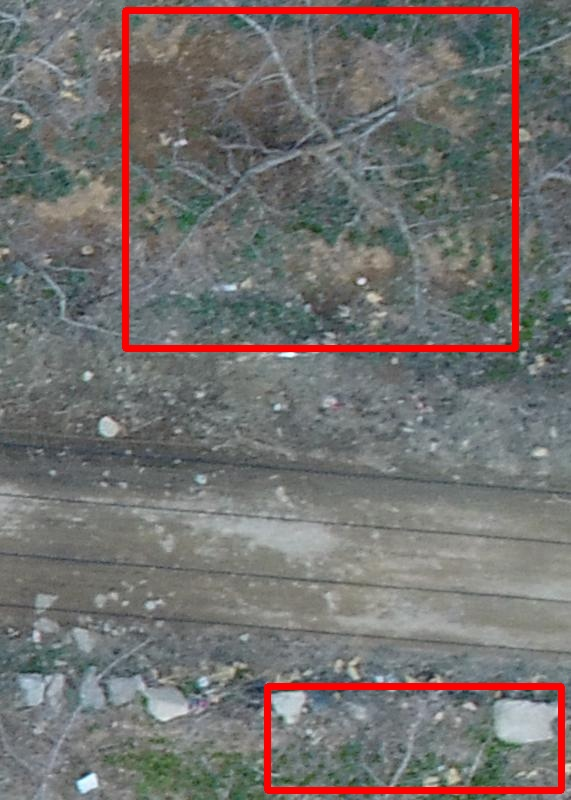apple: (125, 10, 515, 348), (267, 686, 561, 790)
